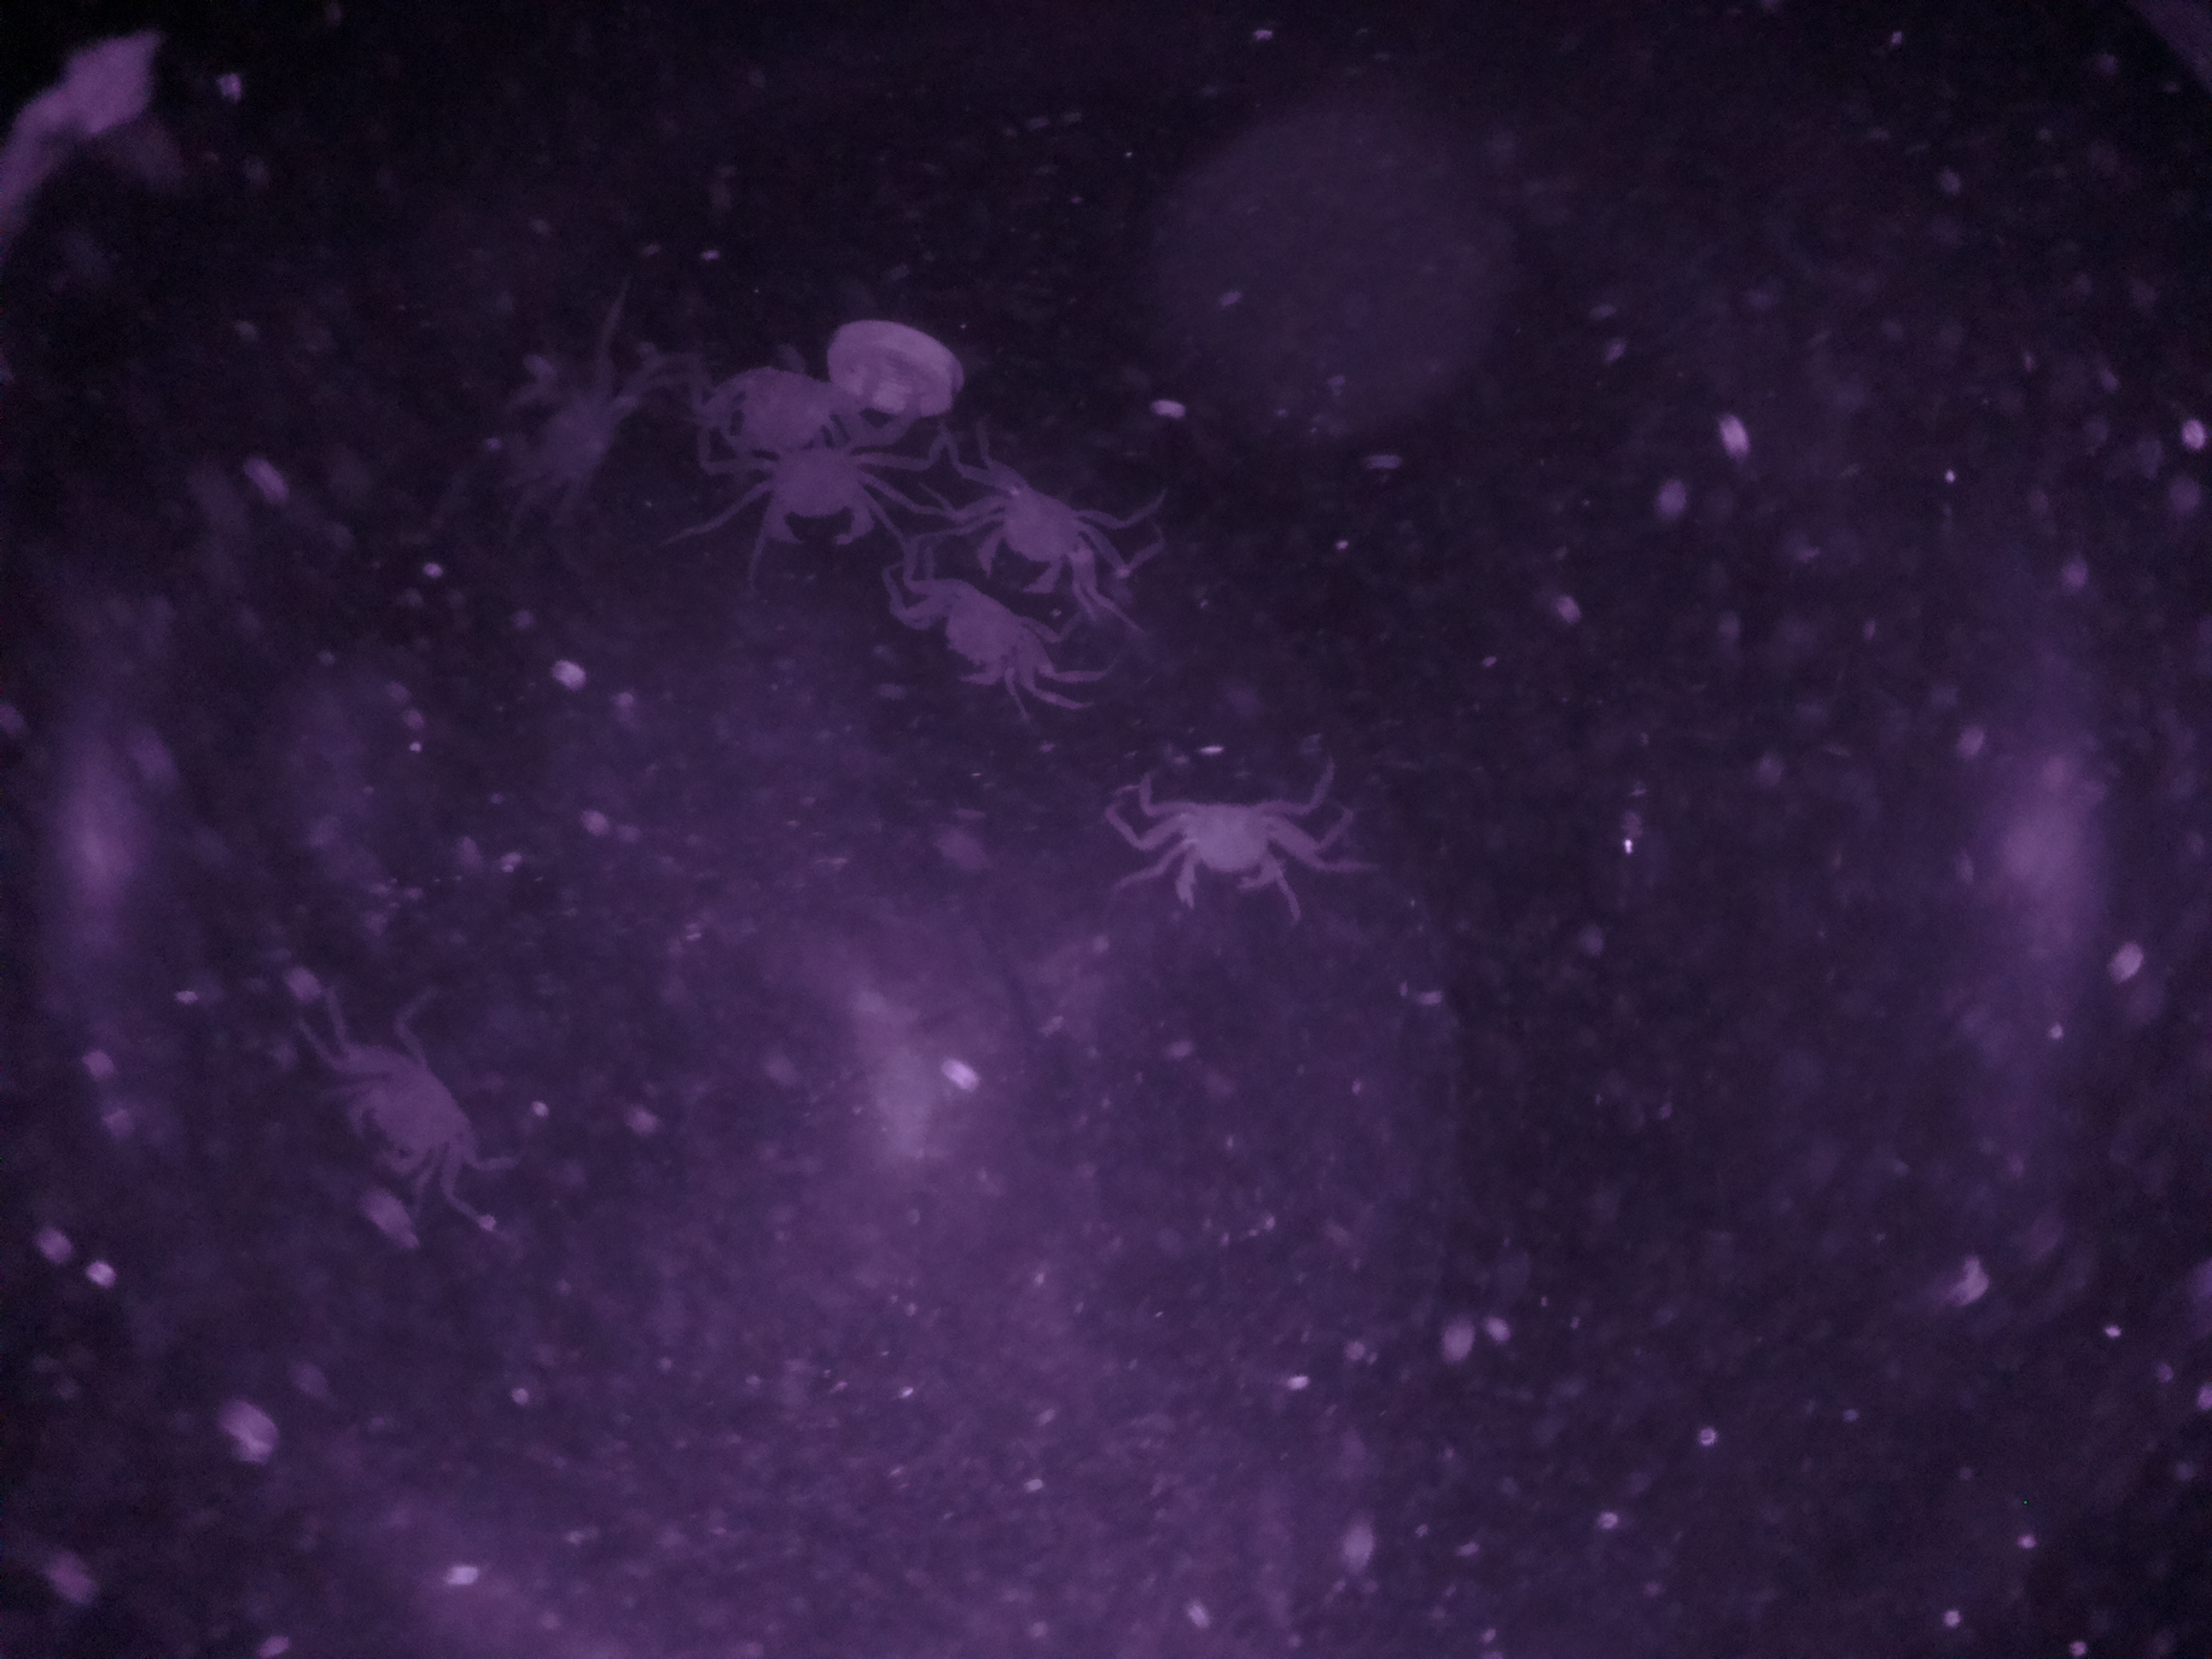Crab: (1129, 767, 1322, 924), (963, 462, 1125, 594)
